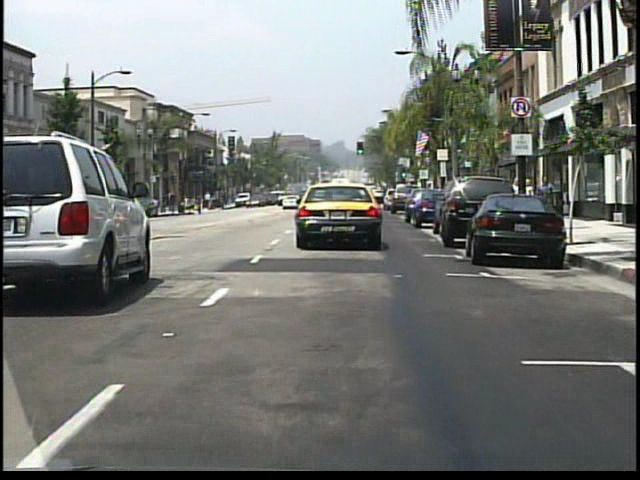person: (535, 170, 555, 225), (522, 178, 536, 217), (215, 194, 223, 211)
